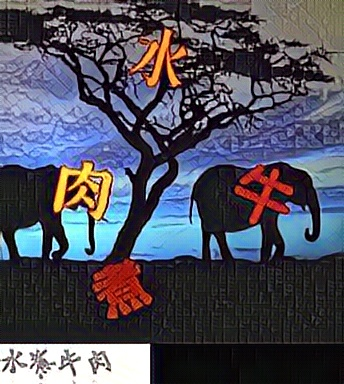C5A3: (231, 163, 293, 227)
C8E2: (50, 157, 112, 221)
CBAE: (126, 26, 188, 90)
D6F3: (90, 256, 152, 320)
